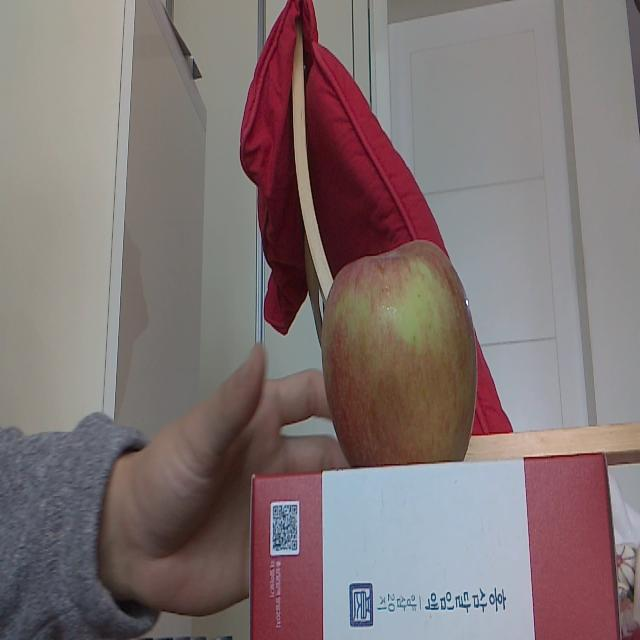apple: (320, 236, 482, 464)
